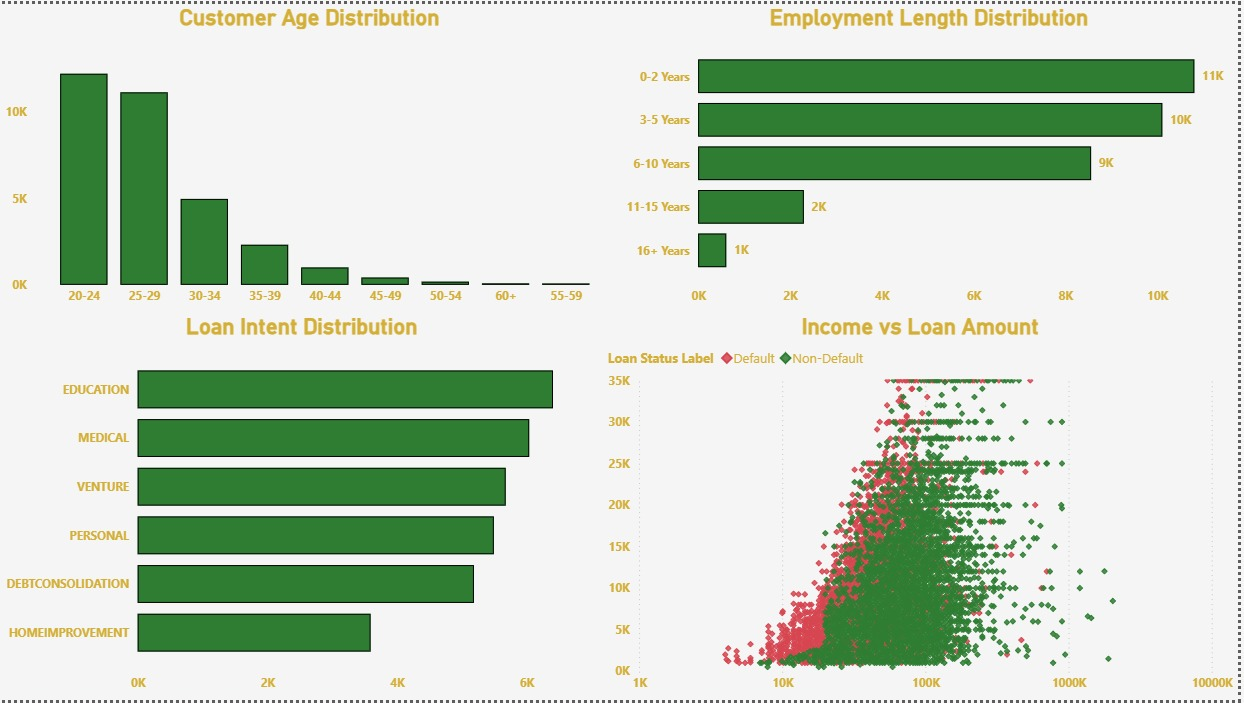

Layout of this report page (visuals, bound fields, positions):
{"tool":"powerbi","page":{"name":"Cusmoter Analysis ","canvas":[1280,720],"ordinal":2},"visuals":[{"type":"columnChart","title":"Customer Age Distribution","fields":{"Y":["Measurement.Total_customer"],"Category":["credit_risk_dataset.Age Group"]},"box":[0,0,640,320],"z":0},{"type":"scatterChart","title":"Income vs Loan Amount","fields":{"X":["credit_risk_dataset.person_income"],"Y":["credit_risk_dataset.loan_amnt"],"Series":["credit_risk_dataset.Loan Status Label"]},"box":[624,320,656,400],"z":1000},{"type":"clusteredBarChart","title":"Employment Length Distribution","fields":{"Category":["credit_risk_dataset.Employment Group"],"Y":["CountNonNull(credit_risk_dataset.person_emp_length)"]},"box":[640,0,640,320],"z":2000},{"type":"clusteredBarChart","title":"Loan Intent Distribution","fields":{"Category":["credit_risk_dataset.loan_intent"],"Y":["CountNonNull(credit_risk_dataset.loan_intent)"]},"box":[0,320,624,400],"z":3000}]}

Visuals, with their boxes in screenshot pixels (x1, y1, x2, y2), scaled from the page's 1280x720 canvas onto the 1244x703 screenshot:
"Customer Age Distribution" columnChart: bbox=[0, 0, 622, 312]
"Income vs Loan Amount" scatterChart: bbox=[606, 312, 1243, 702]
"Employment Length Distribution" clusteredBarChart: bbox=[622, 0, 1243, 312]
"Loan Intent Distribution" clusteredBarChart: bbox=[0, 312, 606, 702]
